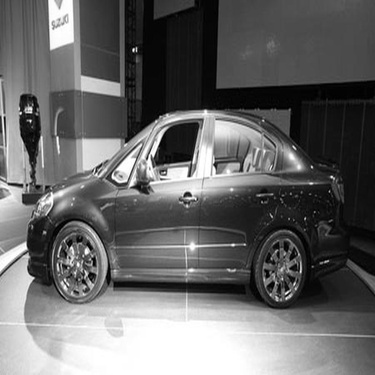car: (18, 100, 359, 306)
